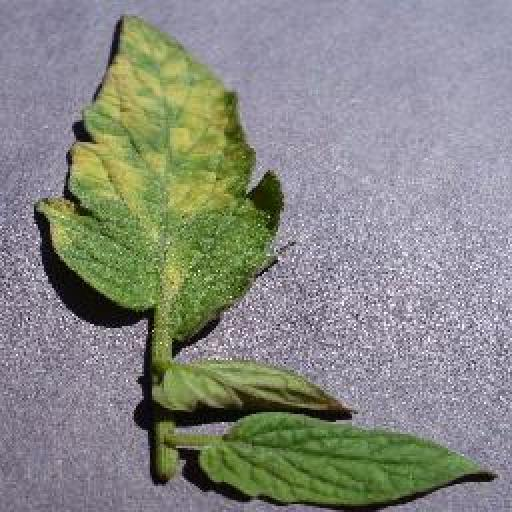disease_tomato: (35, 8, 302, 343)
